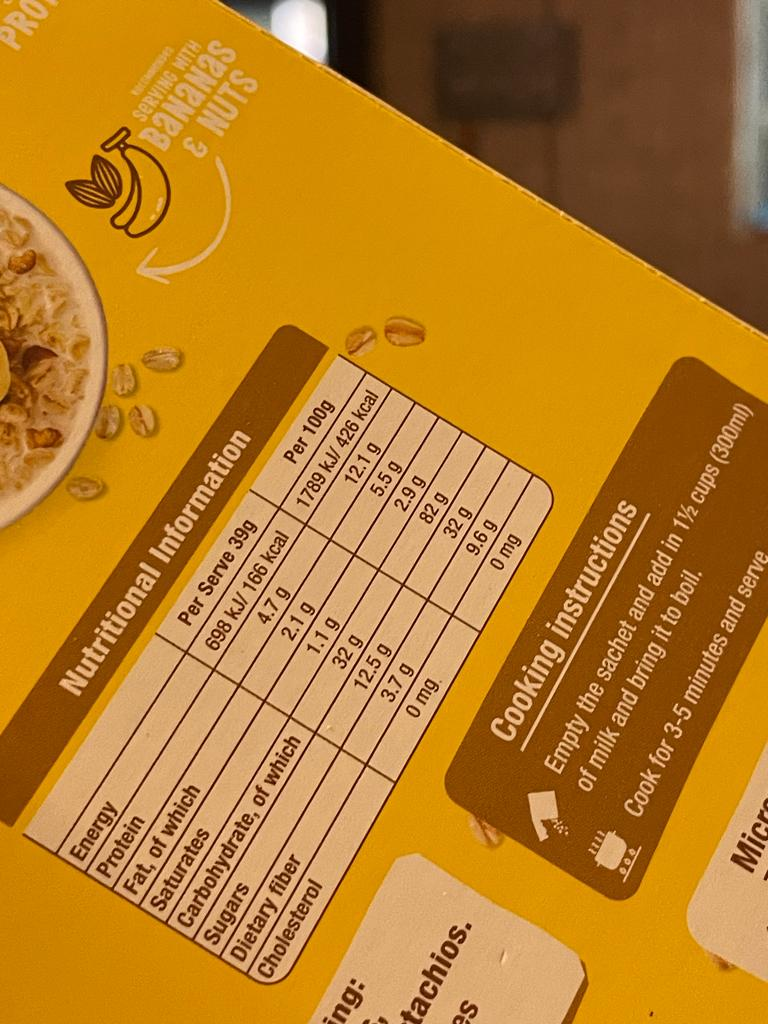table: (26, 316, 561, 984)
